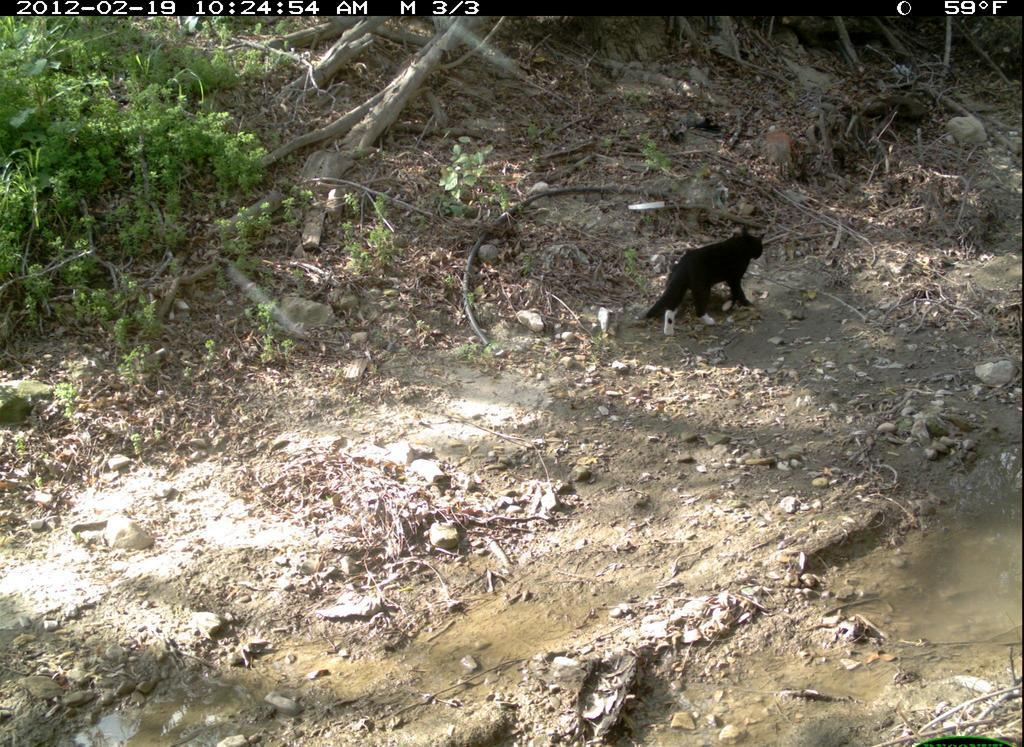cat: (617, 221, 777, 340)
